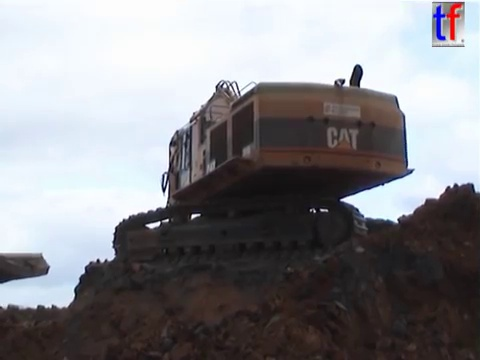excavator: (108, 61, 419, 269)
truck: (1, 250, 53, 288)
